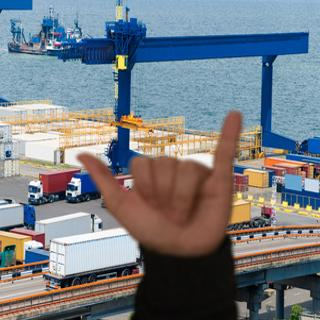HAVE: (71, 101, 253, 256)
